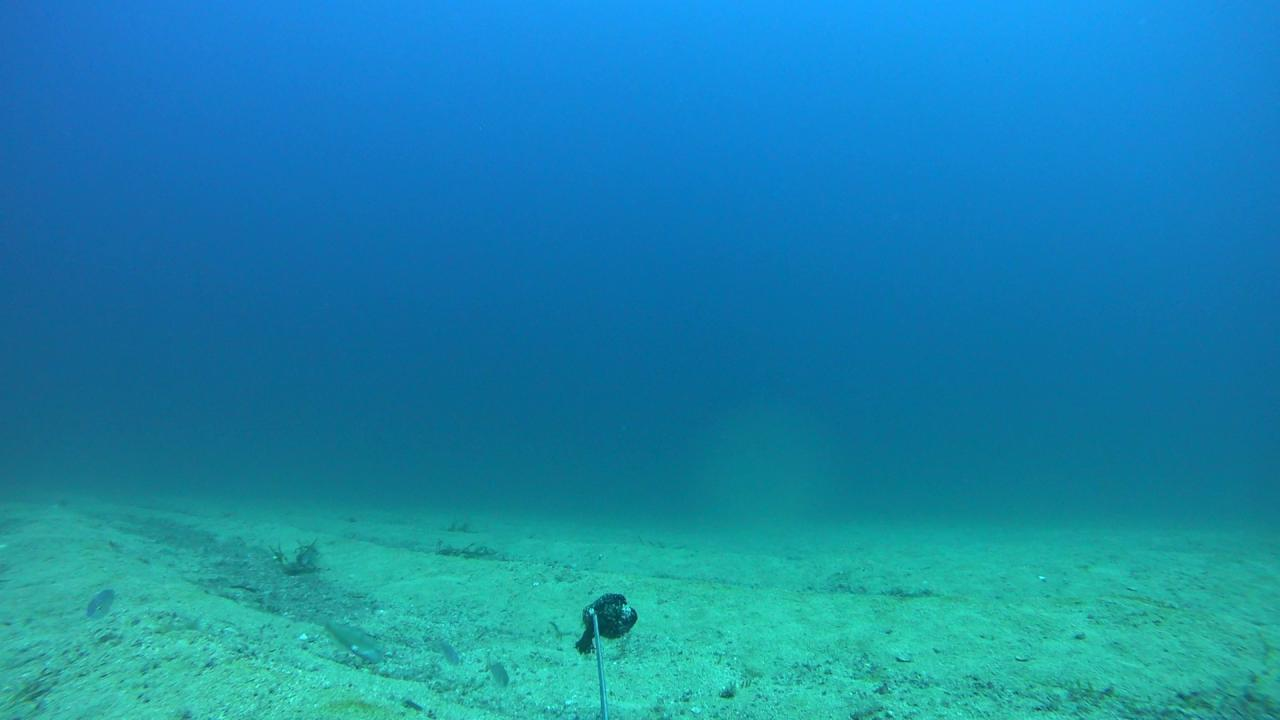pagellus: (85, 589, 117, 620), (434, 640, 464, 669), (483, 656, 508, 686)
raor: (307, 611, 384, 661)
